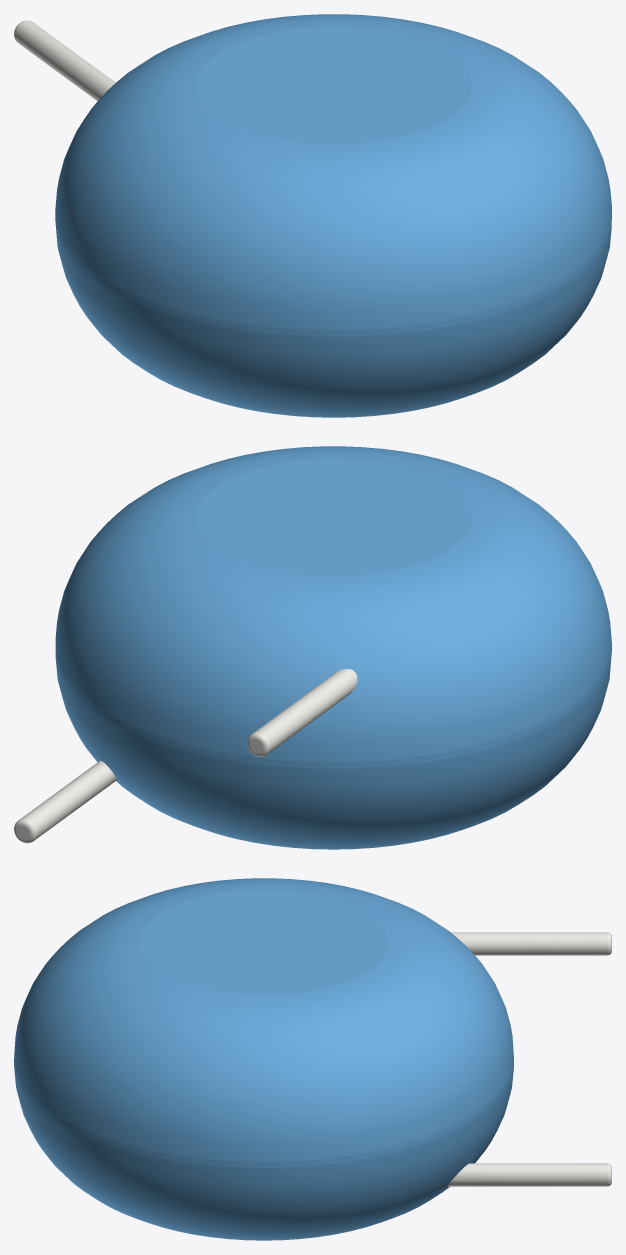
The model's file is RV_Disc_D15.5mm_W8mm_P7.5mm.glb.
3 views of the same model, one above another, from view 1: azimuth 30°, elevation 25°; view 2: azimuth 150°, elevation 25°; view 3: azimuth 270°, elevation 25° (orthographic). The views are drawn at different scales.
Parts seen in each view (by area): view 1: Shape_IndexedFaceSet.001, Shape_IndexedFaceSet.002, Shape_IndexedFaceSet.003, Shape_IndexedFaceSet, Shape_IndexedFaceSet.004; view 2: Shape_IndexedFaceSet.001, Shape_IndexedFaceSet.002, Shape_IndexedFaceSet.003, Shape_IndexedFaceSet, Shape_IndexedFaceSet.004, Shape_IndexedFaceSet.006; view 3: Shape_IndexedFaceSet.001, Shape_IndexedFaceSet.002, Shape_IndexedFaceSet.003, Shape_IndexedFaceSet.006, Shape_IndexedFaceSet.004, Shape_IndexedFaceSet.
Part boxes in pixels (<box>): Shape_IndexedFaceSet.001: <box>55,14,611,330</box>; Shape_IndexedFaceSet.002: <box>55,221,611,417</box>; Shape_IndexedFaceSet.003: <box>195,27,471,143</box>; Shape_IndexedFaceSet: <box>55,214,611,336</box>; Shape_IndexedFaceSet.004: <box>14,21,115,100</box>; Shape_IndexedFaceSet.001: <box>55,446,611,762</box>; Shape_IndexedFaceSet.002: <box>56,651,611,849</box>; Shape_IndexedFaceSet.003: <box>195,459,471,575</box>; Shape_IndexedFaceSet: <box>55,645,611,768</box>; Shape_IndexedFaceSet.004: <box>253,669,357,753</box>; Shape_IndexedFaceSet.006: <box>19,760,116,840</box>; Shape_IndexedFaceSet.001: <box>14,878,513,1162</box>; Shape_IndexedFaceSet.002: <box>14,1066,513,1240</box>; Shape_IndexedFaceSet.003: <box>140,890,387,994</box>; Shape_IndexedFaceSet.006: <box>447,1163,607,1186</box>; Shape_IndexedFaceSet.004: <box>451,932,607,955</box>; Shape_IndexedFaceSet: <box>14,1061,513,1167</box>.
Bounding box in the file's own units: 6.1 × 3.15 × 7.29.
